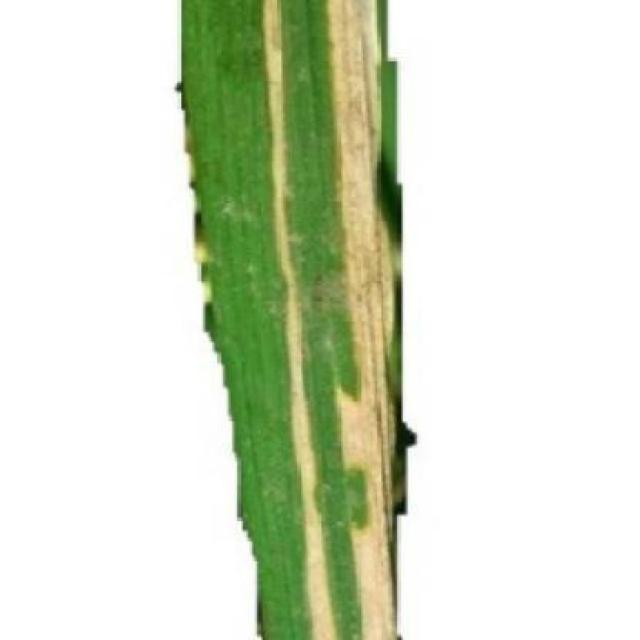Brown_Spot: (176, 0, 416, 640)
